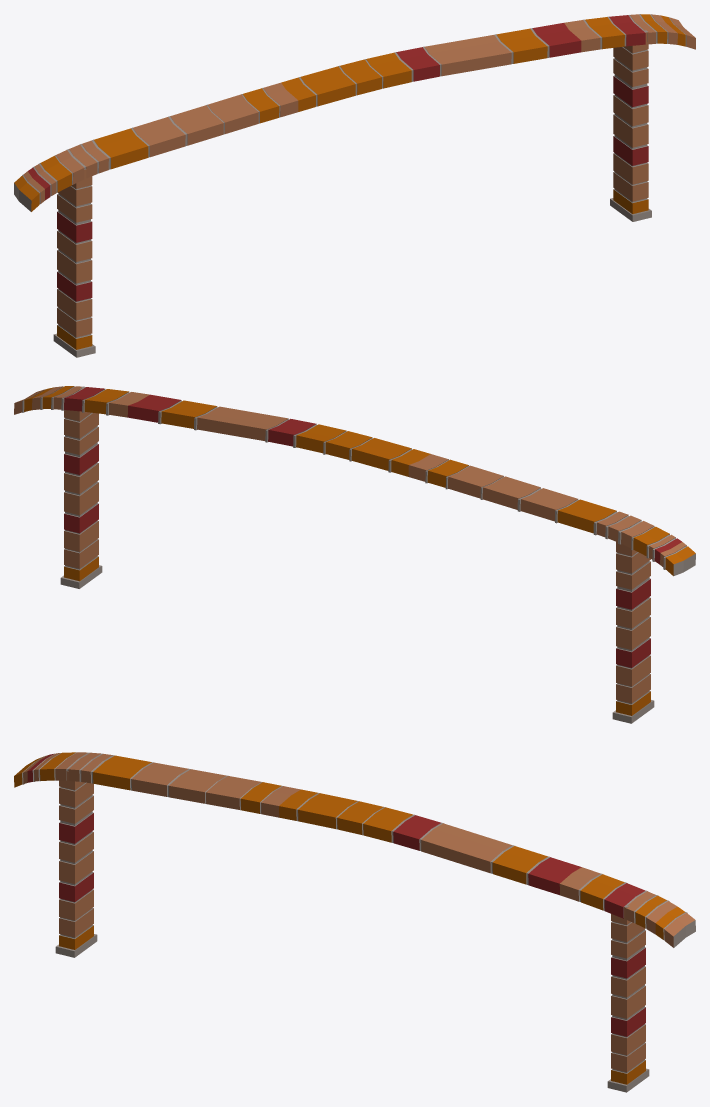
Rendered from pourte.fbx.
The picture shows the model from 3 angles, top to bottom: view 1: azimuth 30°, elevation 25°; view 2: azimuth 150°, elevation 25°; view 3: azimuth 330°, elevation 25°; orthographic projection.
Parts seen in each view (by area): view 1: Circle.001, Cube.298, Cube.299; view 2: Circle.001, Cube.298, Cube.299; view 3: Circle.001, Cube.299, Cube.298.
Boxes of the visible parts, x1,y1,x2,y2 form: Circle.001: (14, 14, 695, 211); Cube.298: (610, 28, 651, 221); Cube.299: (53, 169, 95, 357); Circle.001: (14, 386, 695, 576); Cube.298: (60, 386, 102, 588); Cube.299: (612, 542, 654, 723); Circle.001: (14, 752, 695, 947); Cube.299: (55, 771, 97, 957); Cube.298: (607, 904, 649, 1092).
Bounding box in the file's own units: 1257 × 373 × 74.82.
